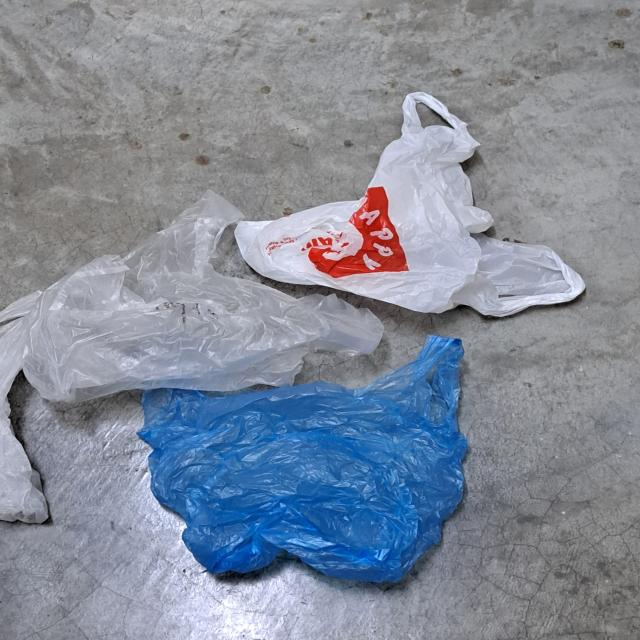plastic bag: (0, 187, 389, 410), (134, 335, 476, 587), (233, 90, 591, 321)
